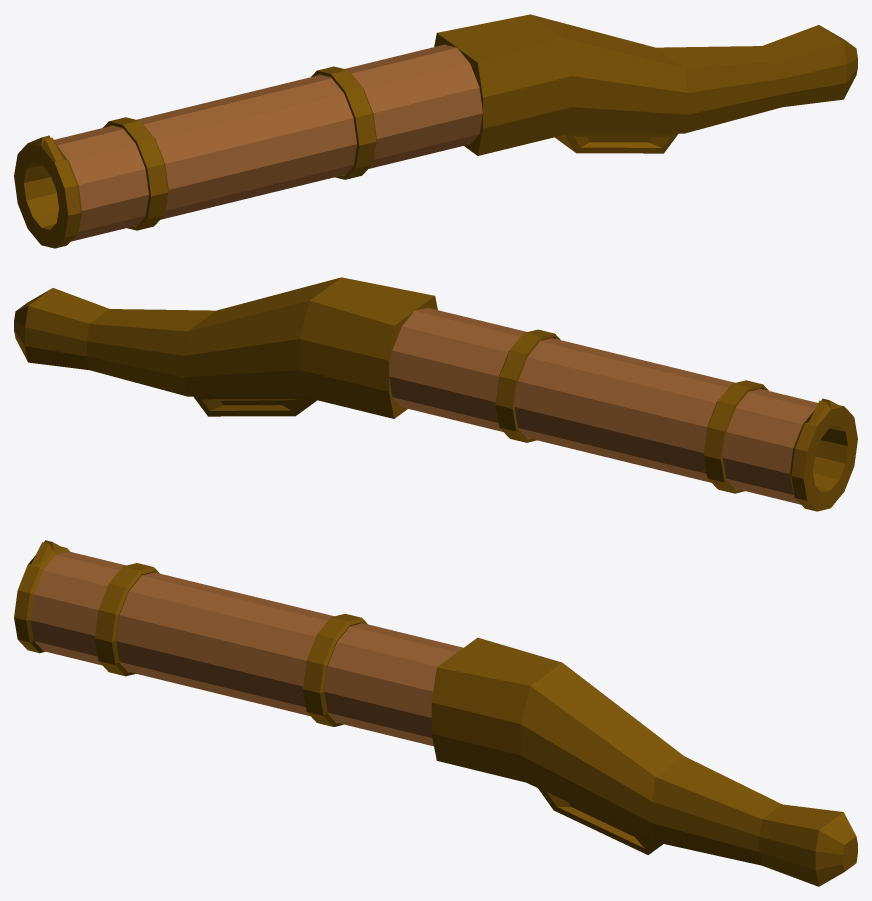
The model's file is gun1.fbx.
The picture shows the model from 3 angles, top to bottom: view 1: azimuth 30°, elevation 25°; view 2: azimuth 150°, elevation 25°; view 3: azimuth 330°, elevation 25°; orthographic projection.
Parts seen in each view (by area): view 1: Gun; view 2: Gun; view 3: Gun.
Boxes of the visible parts, <box> form: Gun: <box>14,14,857,248</box>; Gun: <box>14,277,857,511</box>; Gun: <box>14,540,857,886</box>.
Size of the model in its own units: 182 by 34.08 by 21.94.
